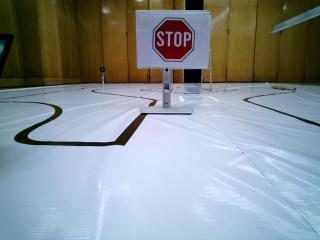stop: (138, 10, 206, 64)
